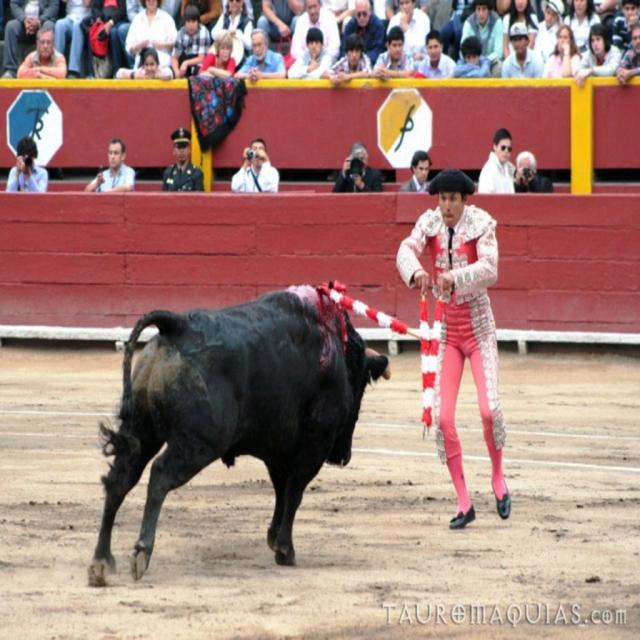Deer: (84, 278, 390, 586)
